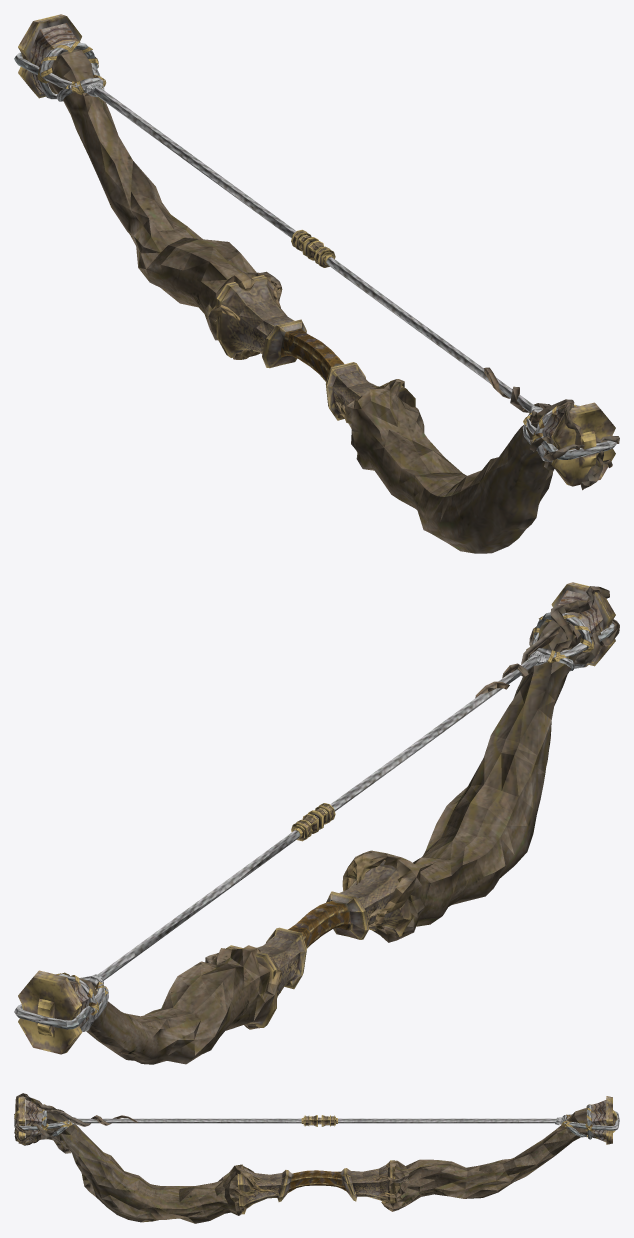
The picture shows the model from 3 angles, top to bottom: view 1: azimuth 30°, elevation 25°; view 2: azimuth 150°, elevation 25°; view 3: azimuth 270°, elevation 25°; orthographic projection. The views are drawn at different scales.
Parts seen in each view (by area): view 1: WP_A_1417; view 2: WP_A_1417; view 3: WP_A_1417.
Part boxes in pixels (box(x1,y1,x2,y2)): WP_A_1417: box(14, 14, 619, 553); WP_A_1417: box(14, 582, 619, 1064); WP_A_1417: box(14, 1093, 619, 1223).
Size of the model in its own units: 7.48 by 21.36 by 94.05.
Materials: 1 (1 with a texture image).
